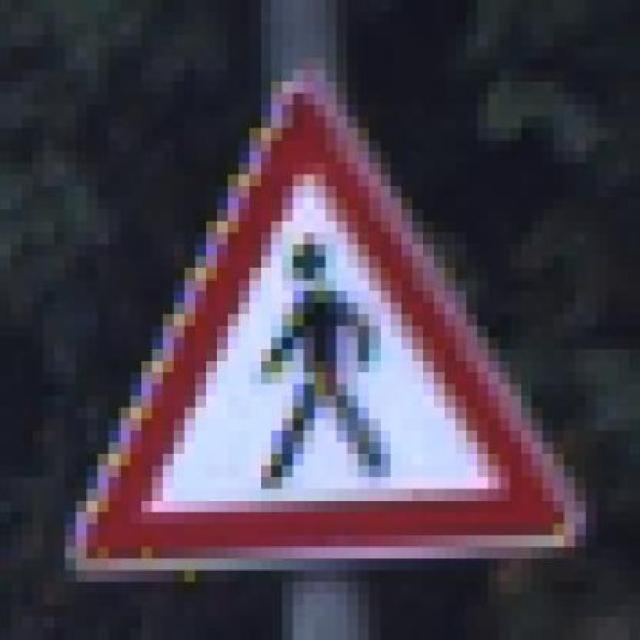Pedestrian Crossing: (62, 55, 584, 580)
